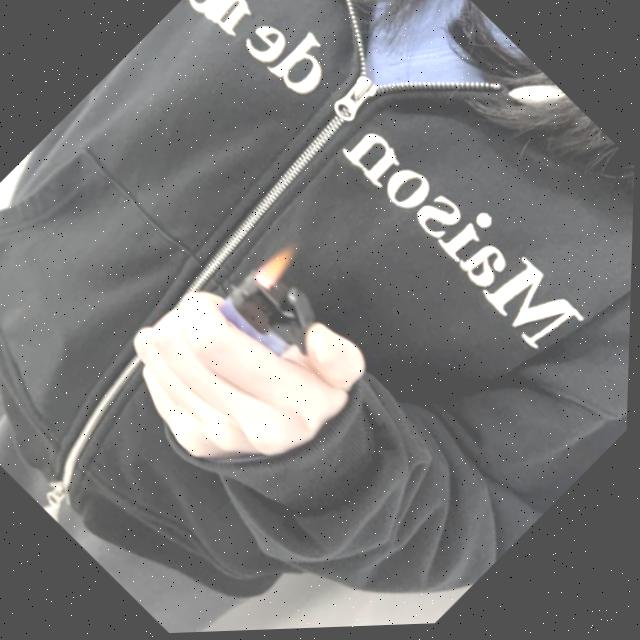Fire: (252, 240, 306, 294)
